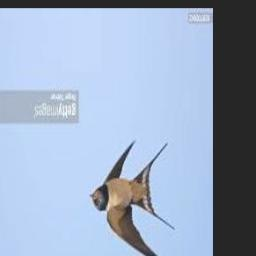Swallow: (90, 141, 175, 256)
